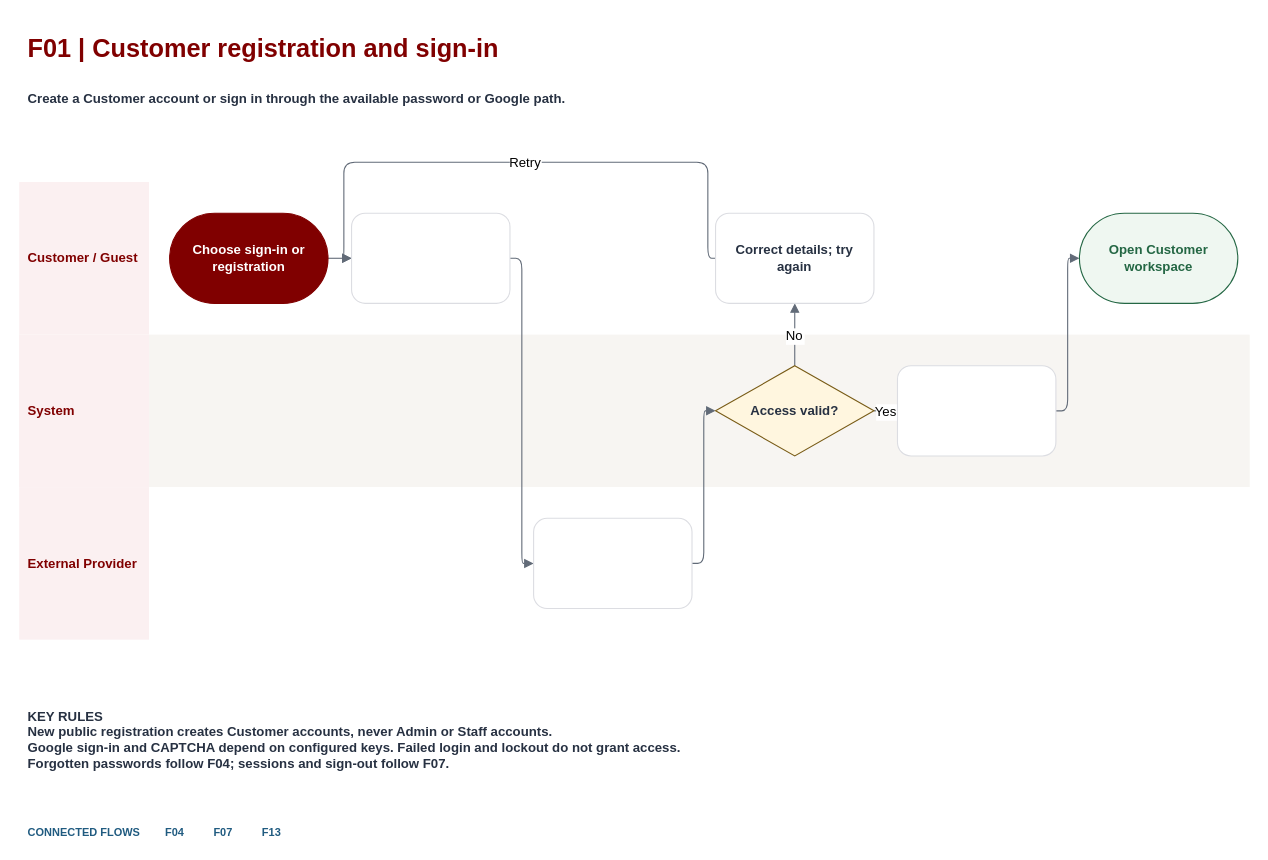
This 1268x860 diagram has some shape labels left out. The shapes that lost their labels are listed below. From the top down, each one's centre as x and y in pixels, then its label:
(430,257): Provide required account details
(976,410): Create account or issue session
(612,563): Verify Google or challenge, if used
